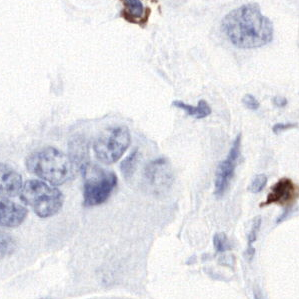Lymphocyte: (264, 177, 294, 206)
